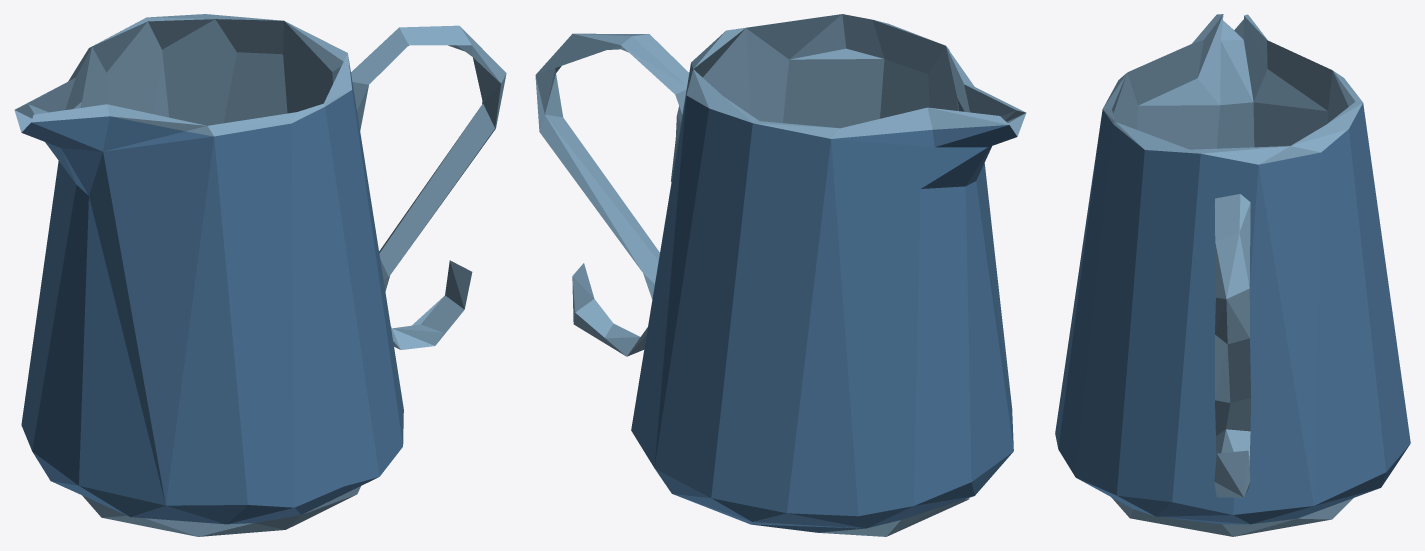
Rendered from MilkCanBlue.fbx.
3 renders of one model, left to right at view 1: azimuth 30°, elevation 25°; view 2: azimuth 150°, elevation 25°; view 3: azimuth 270°, elevation 25°, orthographic. The views are drawn at different scales.
Parts seen in each view (by area): view 1: MilkCanLowPolyBlue; view 2: MilkCanLowPolyBlue; view 3: MilkCanLowPolyBlue.
Boxes of the visible parts, x1,y1,x2,y2 form: MilkCanLowPolyBlue: [14, 14, 506, 536]; MilkCanLowPolyBlue: [535, 14, 1026, 536]; MilkCanLowPolyBlue: [1055, 14, 1410, 536].
Size of the model in its own units: 15.88 by 13.05 by 10.95.
